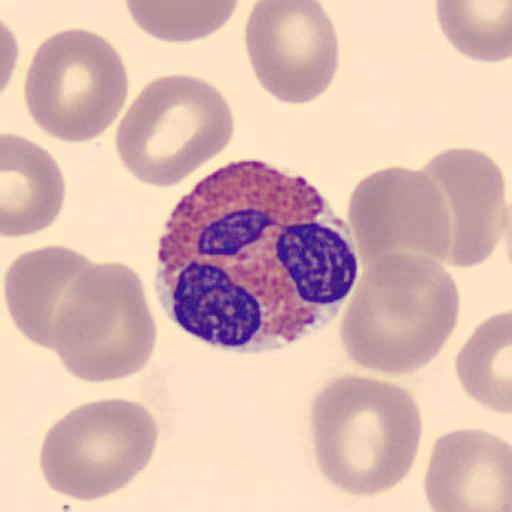RBC: (340, 250, 461, 376), (308, 371, 424, 499), (113, 72, 235, 190), (51, 258, 158, 384), (346, 164, 453, 286), (22, 25, 130, 144), (38, 397, 158, 501), (416, 144, 510, 268), (3, 244, 102, 350), (242, 0, 340, 106), (424, 426, 512, 512), (1, 132, 67, 239), (453, 307, 512, 416), (122, 0, 242, 44), (434, 0, 512, 65), (0, 17, 20, 96)
WBC: (155, 158, 361, 354)
